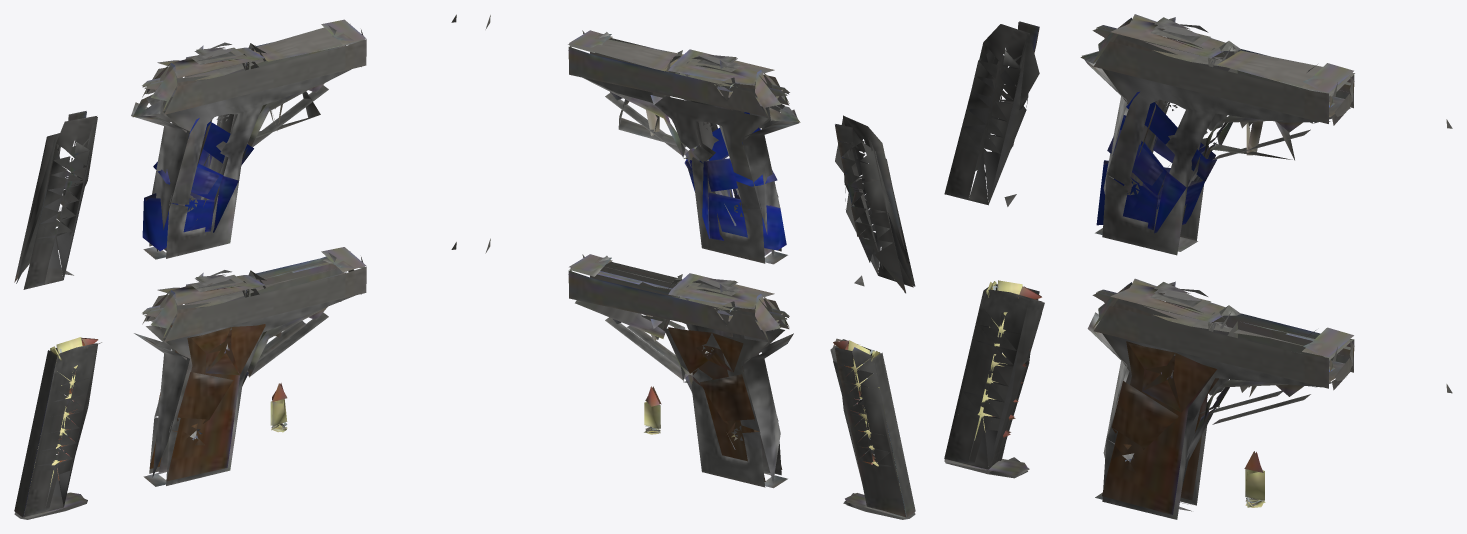
Rendered from service_pistol.glb.
The picture shows the model from 3 angles, left to right: view 1: azimuth 30°, elevation 25°; view 2: azimuth 150°, elevation 25°; view 3: azimuth 330°, elevation 25°; orthographic projection. The views are drawn at different scales.
Parts seen in each view (by area): view 1: service_pistol_pistol_a; view 2: service_pistol_pistol_a; view 3: service_pistol_pistol_a.
Boxes of the visible parts, box(x1,y1,x2,y2) form: service_pistol_pistol_a: box(14, 14, 456, 519); service_pistol_pistol_a: box(485, 15, 915, 519); service_pistol_pistol_a: box(944, 14, 1452, 519).
Bounding box in the file's own units: 0.2997 × 0.278 × 0.0321.
1 material, 1 textured.
